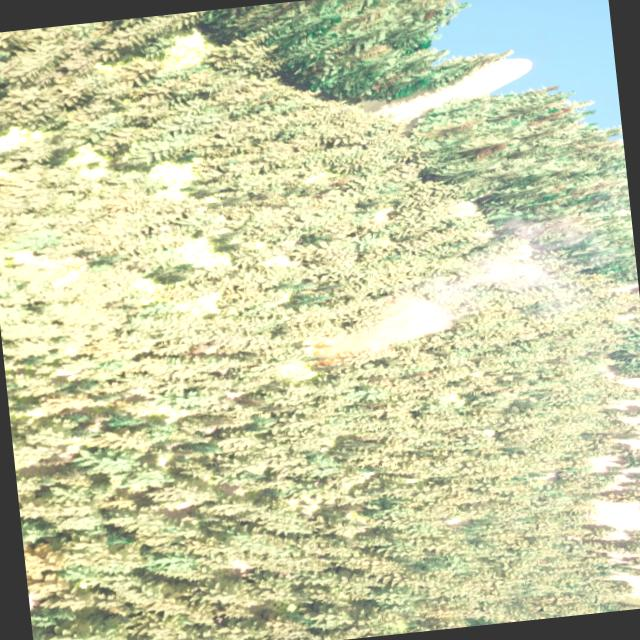fire: (304, 334, 342, 365)
smoke: (333, 219, 584, 361)
